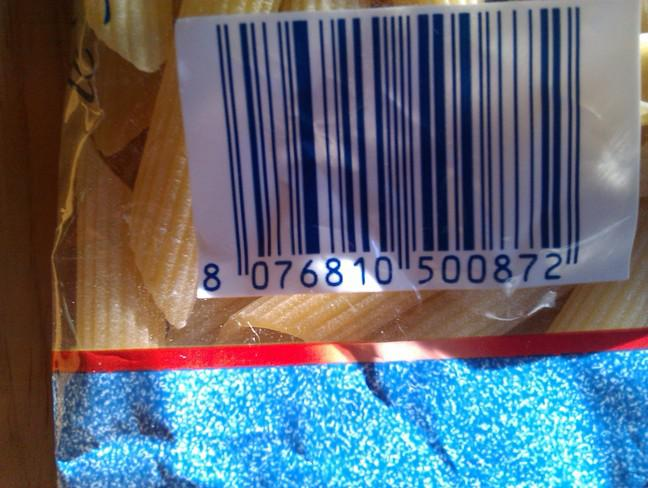Barkod: (177, 1, 634, 296)
